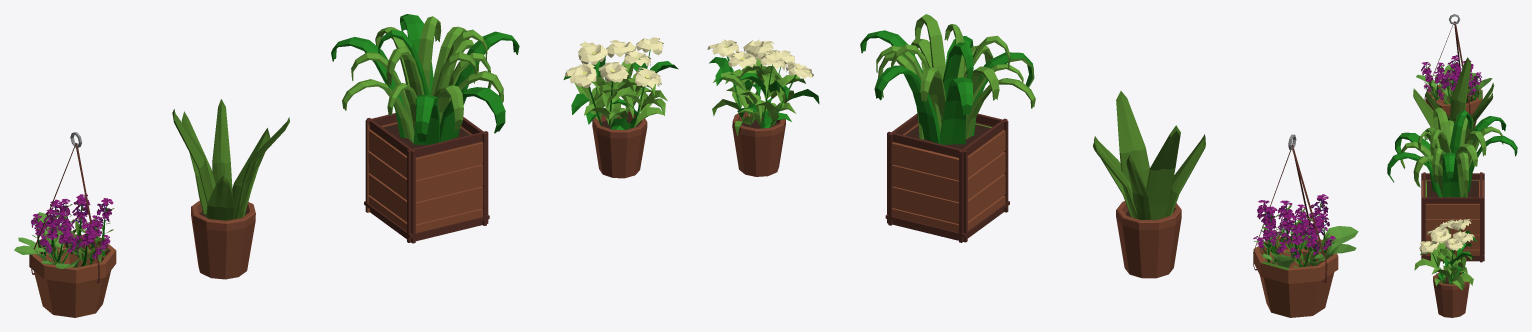
The model's file is house_plants.glb.
3 views of the same model, side by side, from view 1: azimuth 30°, elevation 25°; view 2: azimuth 150°, elevation 25°; view 3: azimuth 270°, elevation 25° (orthographic). The views are drawn at different scales.
Parts seen in each view (by area): view 1: pot_002_Material_018_0_31, pot_002_Material_010_0_29, pot_002_Material_011_0_30, flowerpot_002_Material_002_0_1, Planter_003_Material_018_0_21, pot_002_Material_007_0_28, flowerpot_002_Material_006_0_2, flowerpot_009_Material_006_0_5, Planter_003_Material_019_0_22, jasmine_010_Material_012_0_15, jasmine_009_Material_010_0_8, jasmine_009_Material_012_0_10 (+7 smaller); view 2: pot_002_Material_018_0_31, flowerpot_002_Material_002_0_1, pot_002_Material_010_0_29, pot_002_Material_011_0_30, pot_002_Material_007_0_28, Planter_003_Material_018_0_21, flowerpot_002_Material_006_0_2, Planter_003_Material_019_0_22, flowerpot_009_Material_006_0_5, jasmine_009_Material_010_0_8, jasmine_010_Material_010_0_13, Planter_003_Material_021_0_25 (+7 smaller); view 3: pot_002_Material_010_0_29, pot_002_Material_011_0_30, pot_002_Material_018_0_31, flowerpot_002_Material_002_0_1, pot_002_Material_007_0_28, flowerpot_009_Material_006_0_5, jasmine_009_Material_010_0_8, Planter_003_Material_019_0_22, jasmine_009_Material_012_0_10, Planter_003_Material_018_0_21, Planter_003_Material_021_0_25, jasmine_009_Material_011_0_9 (+6 smaller).
Part boxes in pixels (<box>): pot_002_Material_018_0_31: <box>367,122,483,232</box>; pot_002_Material_010_0_29: <box>342,16,503,142</box>; pot_002_Material_011_0_30: <box>331,14,519,144</box>; flowerpot_002_Material_002_0_1: <box>172,99,289,220</box>; Planter_003_Material_018_0_21: <box>29,234,116,317</box>; pot_002_Material_007_0_28: <box>364,113,489,243</box>; flowerpot_002_Material_006_0_2: <box>191,200,255,279</box>; flowerpot_009_Material_006_0_5: <box>592,111,647,178</box>; Planter_003_Material_019_0_22: <box>31,194,113,258</box>; jasmine_010_Material_012_0_15: <box>565,41,628,87</box>; jasmine_009_Material_010_0_8: <box>604,61,667,127</box>; jasmine_009_Material_012_0_10: <box>606,37,663,88</box>; pot_002_Material_018_0_31: <box>892,122,1005,232</box>; flowerpot_002_Material_002_0_1: <box>1093,91,1205,219</box>; pot_002_Material_010_0_29: <box>876,14,1035,139</box>; pot_002_Material_011_0_30: <box>860,30,1033,144</box>; pot_002_Material_007_0_28: <box>885,113,1009,242</box>; Planter_003_Material_018_0_21: <box>1253,236,1338,317</box>; flowerpot_002_Material_006_0_2: <box>1116,201,1181,278</box>; Planter_003_Material_019_0_22: <box>1253,194,1335,258</box>; flowerpot_009_Material_006_0_5: <box>732,112,785,176</box>; jasmine_009_Material_010_0_8: <box>712,59,781,136</box>; jasmine_010_Material_010_0_13: <box>737,66,805,127</box>; Planter_003_Material_021_0_25: <box>1259,222,1358,267</box>; pot_002_Material_010_0_29: <box>1400,107,1503,197</box>; pot_002_Material_011_0_30: <box>1387,110,1517,197</box>; pot_002_Material_018_0_31: <box>1422,179,1483,255</box>; flowerpot_002_Material_002_0_1: <box>1413,57,1494,142</box>; pot_002_Material_007_0_28: <box>1421,172,1484,262</box>; flowerpot_009_Material_006_0_5: <box>1433,272,1469,317</box>; jasmine_009_Material_010_0_8: <box>1414,242,1473,290</box>; Planter_003_Material_019_0_22: <box>1421,55,1481,100</box>; jasmine_009_Material_012_0_10: <box>1419,229,1474,253</box>; Planter_003_Material_018_0_21: <box>1426,85,1482,130</box>; Planter_003_Material_021_0_25: <box>1416,64,1492,101</box>; jasmine_009_Material_011_0_9: <box>1432,243,1474,284</box>.
Bounding box in the file's own units: 3.38 × 0.9347 × 0.839.
